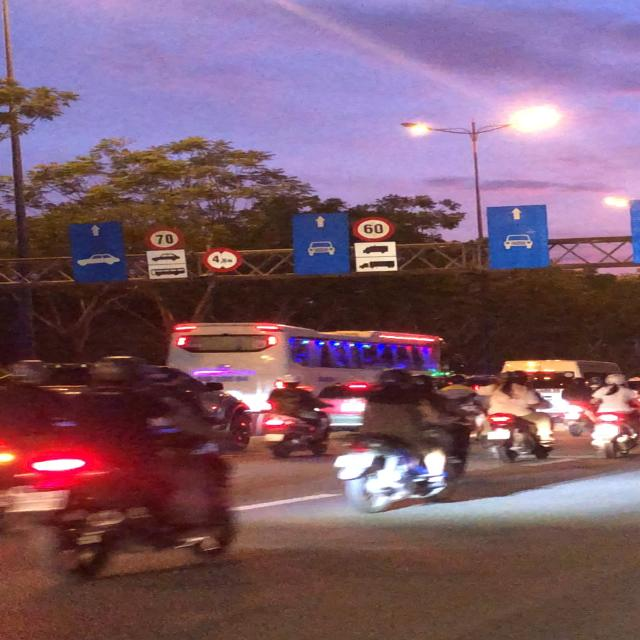Bien bao han che chieu cao: (200, 247, 248, 274)
Bien bao toc do toi da cho phep: (346, 214, 398, 245), (141, 225, 185, 250)
